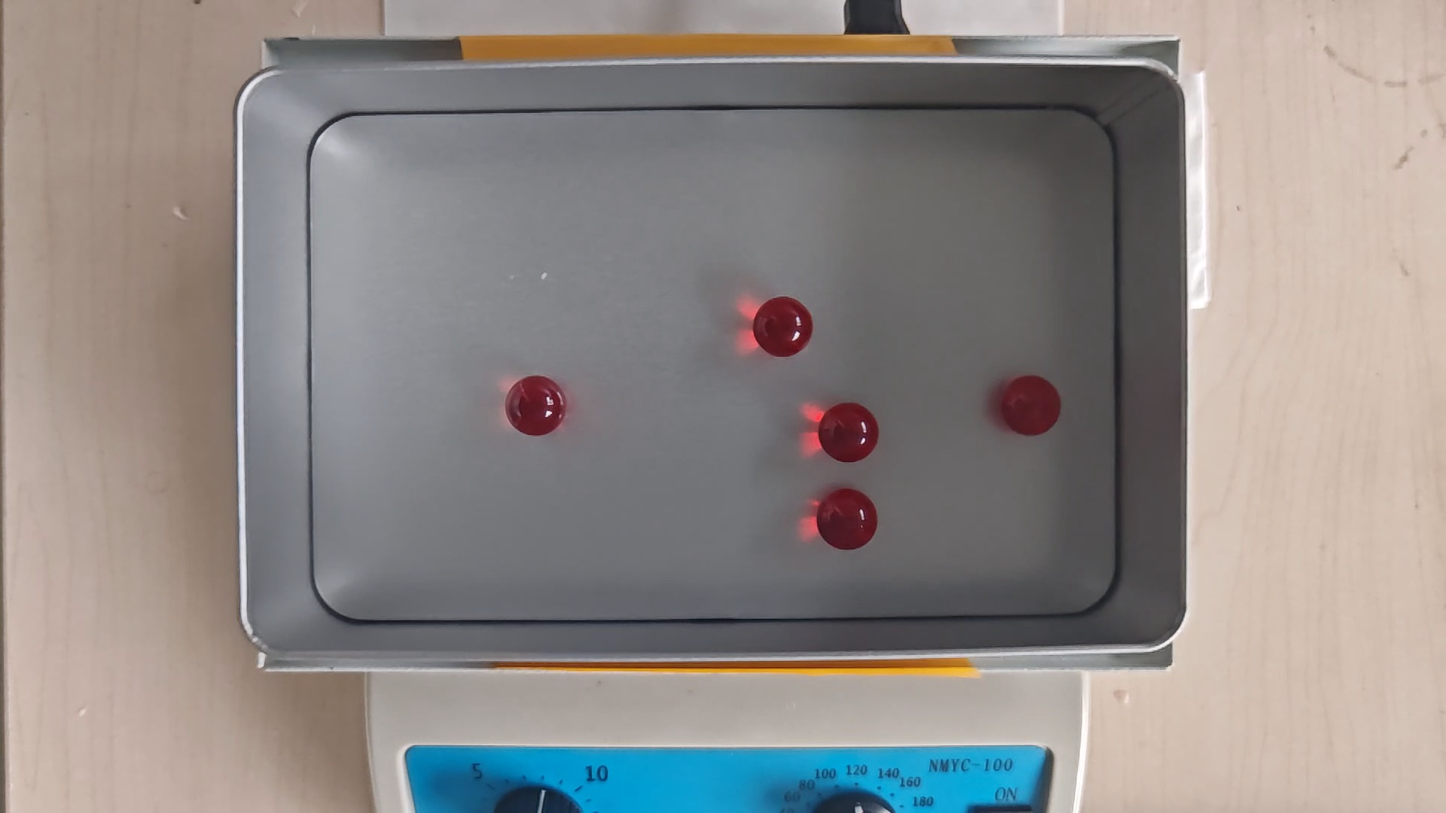ball: (816, 487, 879, 551), (506, 374, 566, 437), (820, 402, 880, 464), (755, 298, 814, 360), (999, 375, 1059, 435)
container: (305, 108, 1118, 623)
